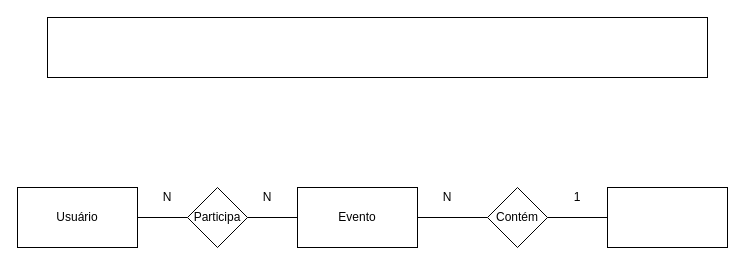
Image size: 745x265. Some labels were removed from this diagram. The centre of each missing label's shape, as x and y in pixels:
"Categoria" goes at point 667,217.
"Modelagem_Conceitual" goes at point 377,47.
